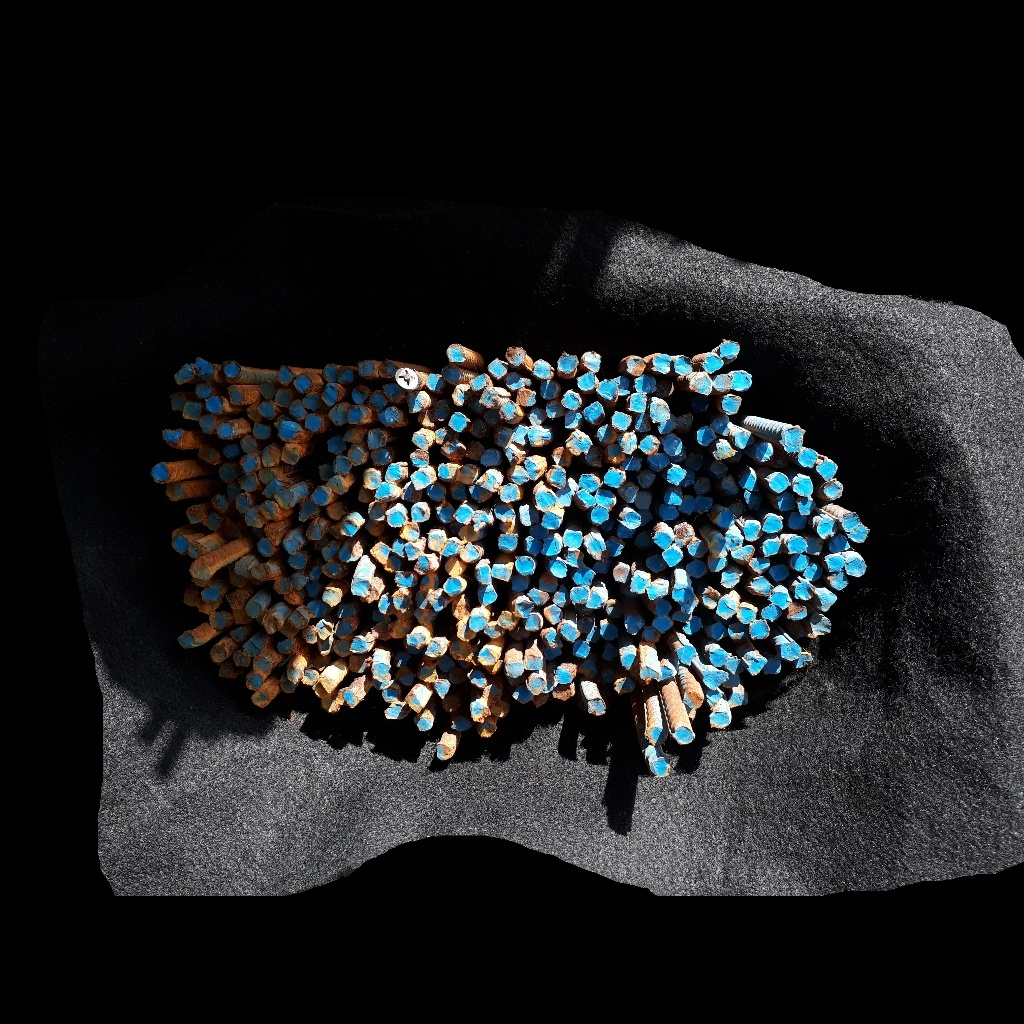dipstick: (476, 469, 503, 492), (406, 626, 431, 650), (566, 433, 590, 457), (582, 531, 606, 555), (523, 456, 548, 479), (396, 367, 419, 392), (373, 481, 400, 502), (428, 589, 451, 613), (478, 387, 504, 408), (265, 521, 286, 547), (526, 426, 552, 446), (814, 588, 837, 610), (277, 421, 300, 443), (782, 427, 803, 451), (691, 372, 712, 396), (725, 686, 749, 707), (453, 595, 474, 619), (321, 384, 345, 405), (650, 398, 670, 423), (414, 555, 439, 575), (394, 568, 419, 588), (810, 615, 832, 637), (470, 701, 492, 723), (263, 613, 285, 635), (198, 443, 220, 465), (730, 370, 751, 393), (711, 372, 734, 393), (499, 400, 522, 421), (456, 619, 477, 642), (436, 501, 457, 524), (370, 541, 393, 562), (748, 577, 772, 597), (670, 584, 694, 604), (645, 726, 669, 746), (595, 380, 619, 400), (557, 621, 581, 641), (425, 637, 449, 657), (234, 556, 258, 576), (459, 544, 484, 563), (286, 610, 311, 629), (745, 443, 774, 459), (661, 546, 683, 567), (638, 435, 660, 456), (560, 391, 582, 412), (535, 490, 556, 512), (378, 406, 400, 427), (150, 462, 171, 484), (798, 446, 818, 469), (767, 473, 790, 493), (713, 440, 736, 460), (188, 560, 211, 580), (702, 670, 726, 689), (326, 476, 350, 495), (702, 354, 723, 375), (816, 459, 837, 480), (744, 654, 765, 675), (320, 669, 341, 690), (721, 393, 741, 415), (702, 587, 722, 609), (676, 644, 696, 666), (618, 432, 638, 454), (584, 401, 604, 423), (630, 571, 650, 593), (546, 467, 568, 487), (526, 673, 546, 695), (514, 596, 534, 618), (450, 641, 472, 661), (472, 511, 494, 531), (393, 589, 415, 609), (735, 472, 758, 491), (576, 372, 599, 391), (527, 587, 550, 606), (443, 577, 466, 596), (363, 467, 382, 490), (648, 758, 672, 776), (572, 567, 596, 585), (553, 584, 571, 608), (469, 484, 493, 502), (720, 340, 740, 361), (792, 477, 813, 497), (742, 490, 763, 510), (666, 464, 686, 485), (542, 604, 563, 624), (515, 555, 536, 575), (499, 483, 520, 503), (506, 345, 526, 366), (488, 358, 508, 379), (491, 563, 512, 583), (498, 610, 518, 631), (448, 411, 468, 432), (322, 587, 342, 608), (329, 405, 350, 425), (240, 452, 261, 472), (193, 355, 213, 376), (231, 607, 252, 627), (794, 582, 816, 601), (803, 562, 825, 581), (706, 554, 728, 573), (596, 425, 618, 444), (604, 444, 626, 463), (553, 683, 575, 702), (557, 354, 579, 373), (451, 386, 470, 408), (407, 391, 426, 413), (410, 471, 432, 490), (283, 533, 302, 555), (244, 508, 266, 527), (634, 376, 657, 394), (613, 677, 636, 695), (603, 469, 626, 487), (593, 489, 616, 507), (172, 366, 195, 384), (822, 479, 842, 499), (770, 589, 790, 609), (708, 648, 728, 668), (612, 411, 632, 431), (625, 614, 645, 634), (552, 447, 572, 467), (562, 528, 582, 548), (478, 586, 498, 606), (426, 481, 446, 501), (402, 481, 422, 501), (367, 430, 387, 450), (198, 416, 218, 436), (847, 523, 868, 542), (789, 553, 810, 572), (817, 517, 836, 538), (716, 600, 737, 619), (706, 535, 727, 554), (715, 508, 736, 527), (685, 559, 706, 578), (648, 452, 669, 471), (633, 412, 652, 433), (591, 556, 612, 575), (584, 445, 603, 466), (538, 380, 559, 399), (506, 371, 525, 392), (446, 343, 467, 362), (444, 557, 465, 576), (406, 694, 427, 713), (411, 431, 432, 450), (399, 522, 420, 541), (384, 384, 405, 403), (348, 446, 367, 467), (316, 620, 337, 639), (305, 522, 326, 541), (262, 446, 281, 467), (162, 428, 183, 447), (826, 572, 848, 590), (748, 621, 770, 639), (730, 430, 752, 448), (695, 427, 717, 445), (709, 711, 731, 729), (576, 660, 598, 678), (522, 655, 544, 673), (512, 686, 534, 704), (494, 503, 516, 521), (428, 529, 446, 551), (384, 702, 406, 720), (171, 531, 189, 553), (227, 591, 249, 609), (440, 440, 463, 457), (274, 491, 297, 508), (730, 545, 754, 561), (847, 557, 866, 577), (736, 605, 755, 625), (646, 553, 666, 572), (625, 357, 645, 376), (590, 506, 609, 526), (587, 697, 606, 717), (583, 352, 602, 372), (555, 664, 574, 684), (541, 537, 561, 556), (519, 505, 538, 525), (498, 533, 518, 552), (404, 540, 423, 560), (370, 622, 390, 641), (387, 508, 406, 528), (368, 391, 387, 411), (346, 405, 366, 424), (336, 620, 356, 639), (321, 364, 341, 383), (281, 445, 300, 465), (262, 479, 281, 499), (244, 671, 264, 690), (211, 496, 230, 516), (229, 570, 249, 589), (769, 564, 790, 582), (661, 436, 682, 454), (674, 355, 692, 376), (652, 616, 673, 634), (578, 473, 599, 491), (612, 562, 630, 583), (554, 485, 572, 506), (563, 548, 584, 566), (480, 448, 501, 466), (468, 613, 489, 631), (453, 505, 474, 523), (413, 713, 434, 731), (378, 593, 396, 614), (229, 384, 247, 405), (204, 395, 225, 413), (164, 484, 185, 502), (186, 504, 204, 525), (705, 623, 727, 640), (650, 599, 672, 616), (621, 454, 643, 471), (434, 678, 451, 700), (370, 663, 392, 680), (414, 609, 437, 625), (321, 562, 344, 578), (786, 535, 805, 554), (584, 590, 603, 609), (549, 559, 568, 578), (513, 425, 532, 444), (495, 428, 514, 447), (299, 503, 318, 522), (275, 367, 294, 386), (302, 392, 321, 411), (194, 380, 213, 399), (181, 402, 200, 421), (208, 611, 227, 630), (742, 522, 760, 542), (721, 569, 741, 587), (653, 531, 673, 549), (682, 617, 702, 635), (646, 583, 666, 601), (628, 393, 648, 411), (575, 490, 595, 508), (600, 622, 620, 640), (604, 601, 624, 619), (563, 411, 583, 429), (541, 511, 561, 529), (516, 388, 536, 406), (474, 564, 492, 584), (439, 538, 459, 556), (410, 503, 430, 521), (368, 500, 386, 520), (351, 578, 371, 596), (332, 639, 352, 657), (311, 487, 331, 505), (333, 455, 351, 475), (327, 437, 347, 455), (229, 627, 253, 642), (804, 538, 825, 555), (762, 515, 783, 532), (750, 557, 771, 574), (504, 660, 525, 677), (433, 400, 450, 421), (220, 463, 237, 484), (640, 626, 662, 642), (620, 511, 642, 527), (458, 526, 481, 541), (797, 497, 816, 515), (780, 642, 799, 660), (675, 523, 694, 541), (637, 468, 656, 486), (600, 643, 618, 662), (604, 538, 623, 556), (528, 407, 546, 426), (573, 641, 592, 659), (540, 628, 559, 646), (525, 612, 544, 630), (506, 445, 524, 464), (469, 419, 488, 437), (469, 669, 487, 688), (490, 699, 509, 717), (425, 373, 443, 392), (418, 409, 436, 428), (385, 463, 403, 482), (378, 359, 396, 378), (252, 691, 271, 709), (273, 577, 292, 595), (240, 474, 259, 492), (239, 435, 258, 453), (257, 381, 276, 399), (216, 422, 234, 441), (843, 512, 860, 532), (787, 603, 807, 620), (787, 512, 807, 529), (761, 540, 781, 557), (653, 354, 670, 374), (676, 414, 696, 431), (683, 691, 703, 708), (673, 726, 693, 743), (633, 532, 653, 549), (613, 376, 630, 396), (484, 621, 504, 638), (469, 374, 489, 391), (459, 465, 476, 485), (419, 666, 439, 683), (419, 574, 439, 591), (388, 621, 408, 638), (349, 636, 369, 653), (343, 688, 360, 708), (348, 656, 368, 673), (293, 374, 313, 391), (249, 565, 269, 582), (829, 536, 850, 552), (759, 606, 780, 622), (476, 721, 497, 737), (371, 450, 392, 466), (709, 416, 731, 431), (620, 485, 638, 503), (384, 554, 402, 572), (356, 486, 374, 504), (361, 585, 379, 603), (257, 538, 275, 556), (261, 501, 279, 519), (290, 571, 308, 589), (221, 440, 239, 458), (202, 588, 220, 606), (825, 555, 844, 572), (776, 494, 795, 511), (539, 574, 558, 591), (478, 647, 497, 664), (410, 449, 429, 466), (313, 681, 332, 698), (235, 496, 254, 513), (183, 588, 200, 607), (659, 504, 679, 520), (680, 597, 700, 613), (531, 362, 551, 378), (276, 390, 296, 406), (306, 600, 326, 616), (284, 589, 304, 605), (342, 428, 363, 443), (638, 666, 660, 680), (528, 524, 550, 538), (451, 717, 473, 731), (678, 496, 695, 514), (634, 492, 652, 509), (544, 401, 562, 418), (511, 574, 528, 592), (525, 536, 542, 554), (442, 694, 459, 712), (437, 655, 455, 672), (340, 519, 358, 536), (328, 503, 346, 520), (339, 368, 357, 385), (245, 601, 263, 618), (265, 562, 282, 580), (663, 490, 682, 506), (686, 541, 705, 557), (437, 742, 453, 761), (366, 520, 385, 536), (301, 669, 320, 685), (286, 667, 305, 683), (304, 415, 323, 431), (252, 422, 271, 438), (170, 394, 189, 410), (196, 597, 215, 613), (541, 672, 556, 692), (443, 367, 463, 382), (288, 554, 308, 569), (728, 501, 745, 518), (721, 478, 738, 495), (340, 545, 357, 562), (694, 497, 712, 513), (695, 477, 711, 495), (706, 689, 722, 707), (620, 654, 638, 670), (544, 644, 562, 660), (511, 468, 529, 484), (396, 669, 414, 685), (370, 678, 394, 690), (233, 651, 251, 667), (224, 361, 242, 377), (205, 512, 221, 530), (726, 660, 745, 675), (482, 410, 501, 425), (276, 639, 295, 654), (243, 641, 262, 656), (246, 402, 261, 421), (709, 462, 729, 476), (726, 533, 743, 549), (796, 652, 813, 668), (727, 623, 744, 639), (635, 510, 652, 526), (484, 685, 501, 701), (352, 386, 368, 403), (289, 402, 306, 418), (253, 657, 270, 673), (279, 676, 295, 693), (657, 418, 675, 433), (722, 673, 740, 688), (358, 360, 376, 375), (321, 545, 339, 560), (186, 543, 204, 558), (763, 659, 782, 673), (437, 464, 456, 478), (415, 590, 429, 609), (257, 468, 276, 482), (218, 665, 237, 679), (383, 688, 399, 704), (211, 647, 227, 663), (179, 632, 195, 648), (678, 471, 695, 486), (656, 664, 673, 679), (616, 524, 633, 539), (318, 464, 333, 481), (307, 564, 322, 581), (577, 619, 595, 633), (303, 626, 317, 644), (599, 667, 615, 682), (307, 581, 321, 598), (257, 402, 274, 416), (321, 698, 339, 711), (337, 604, 356, 616), (586, 629, 602, 643), (450, 485, 466, 499), (434, 427, 448, 443), (393, 540, 406, 557), (394, 653, 411, 666), (227, 484, 242, 498), (672, 610, 690, 621), (373, 610, 391, 621)
